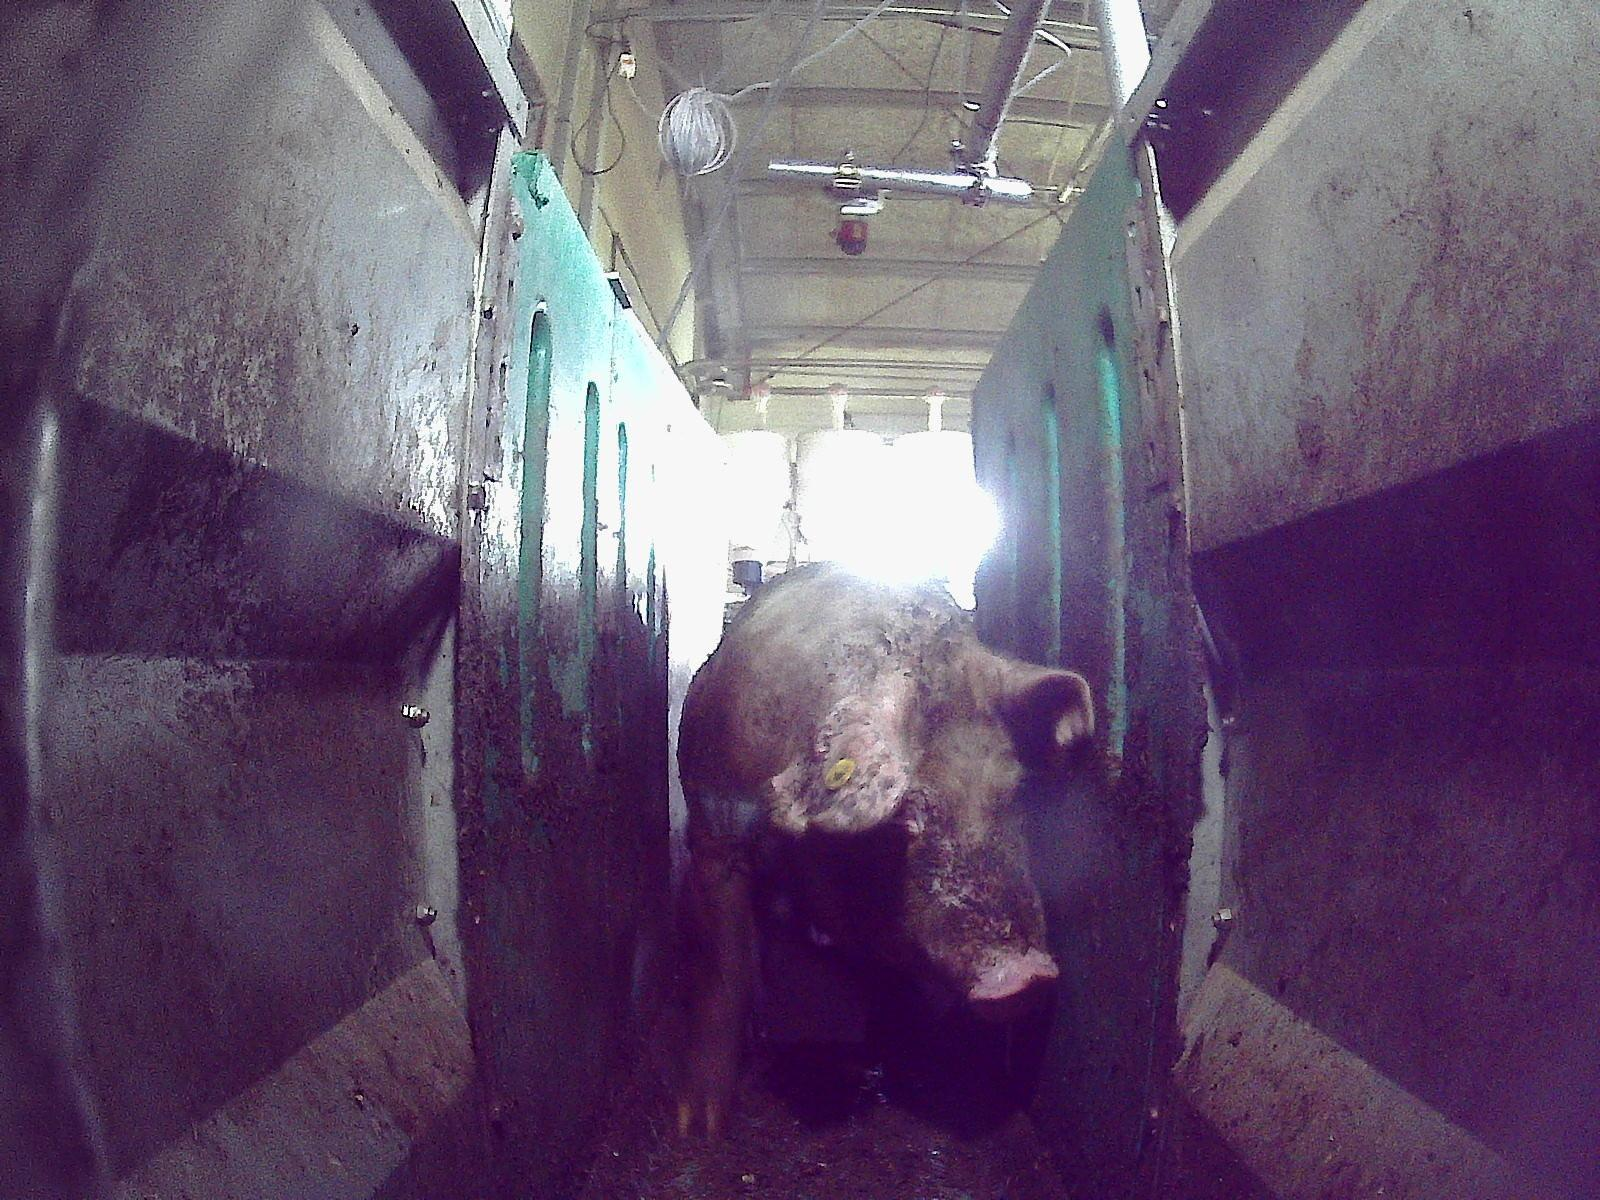Face: (791, 675, 1065, 1027)
